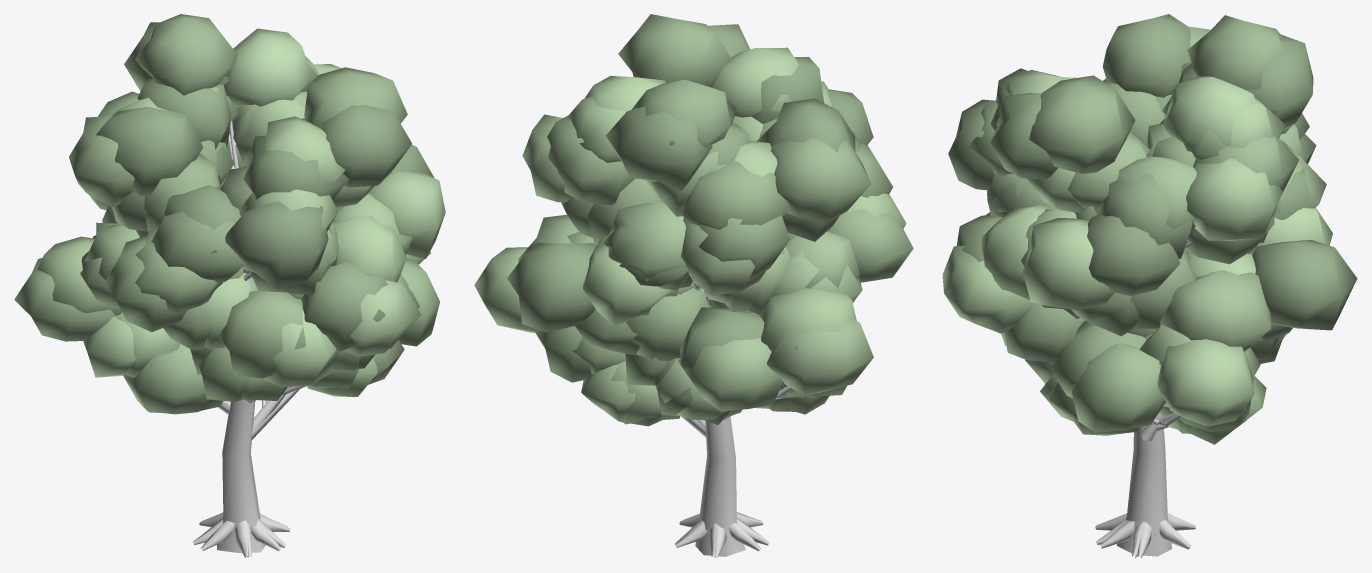
The model's file is park-trees-far.glb.
3 views of the same model, side by side, from view 1: azimuth 30°, elevation 25°; view 2: azimuth 150°, elevation 25°; view 3: azimuth 270°, elevation 25° (orthographic). The views are drawn at different scales.
Visible parts, largest first — view 1: Camphor.far.Foliage, Zelkova.far.Foliage, Camphor.far.Bark, Zelkova.far.Bark; view 2: Camphor.far.Foliage, Zelkova.far.Foliage, Camphor.far.Bark, Zelkova.far.Bark; view 3: Camphor.far.Foliage, Zelkova.far.Foliage, Camphor.far.Bark, Zelkova.far.Bark.
Boxes of the visible parts, x1,y1,x2,y2 form: Camphor.far.Foliage: (14, 22, 445, 414); Zelkova.far.Foliage: (37, 14, 434, 413); Camphor.far.Bark: (193, 134, 306, 557); Zelkova.far.Bark: (199, 120, 305, 557); Camphor.far.Foliage: (474, 24, 913, 426); Zelkova.far.Foliage: (547, 14, 906, 425); Camphor.far.Bark: (674, 283, 791, 557); Zelkova.far.Bark: (675, 290, 769, 557); Camphor.far.Foliage: (942, 26, 1357, 444); Zelkova.far.Foliage: (947, 14, 1332, 433); Camphor.far.Bark: (1095, 239, 1262, 557); Zelkova.far.Bark: (1096, 411, 1194, 557).
Bounding box in the file's own units: 8.44 × 10.32 × 7.44.
